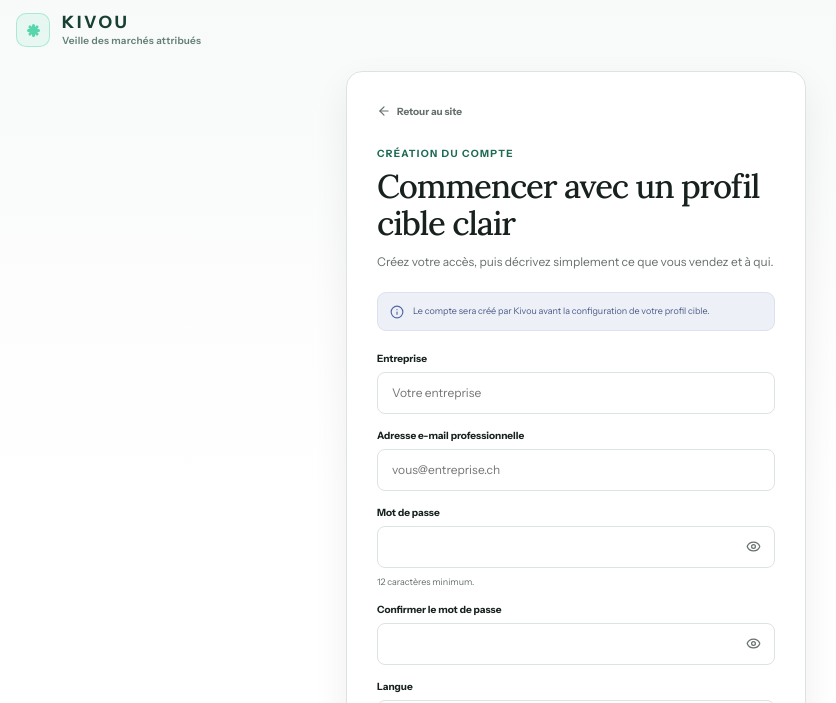
Scenario: inscription › refuse une adresse invalide sans appeler l’API
This screenshot has width=836, height=703.
In the field labelled "Entreprise": (576, 392) x1=377 y1=372 x2=775 y2=414, type "Acme"
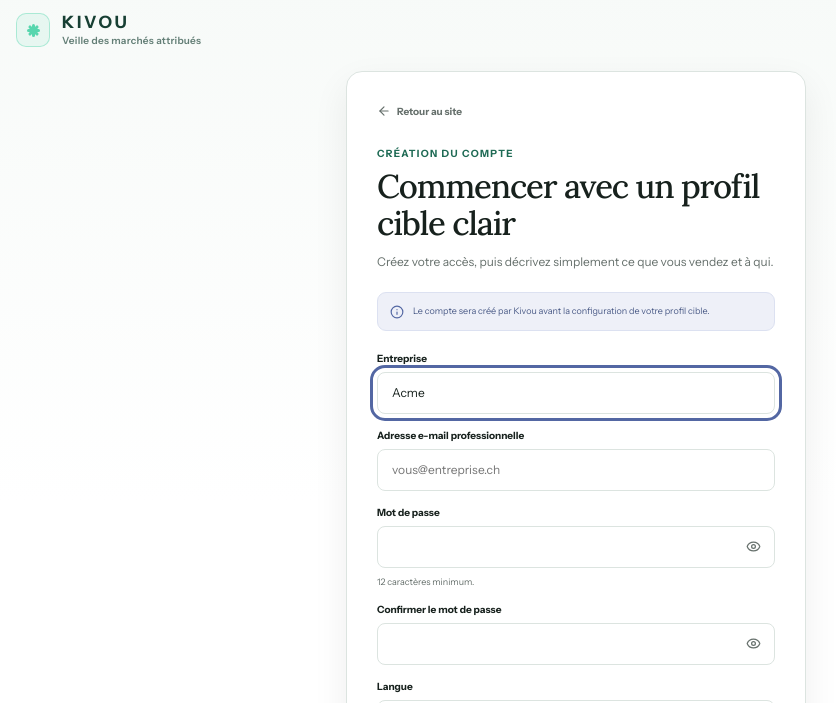
In the field labelled "Adresse e-mail professionnelle": (576, 470) x1=377 y1=448 x2=775 y2=490, type "adresse-invalide"
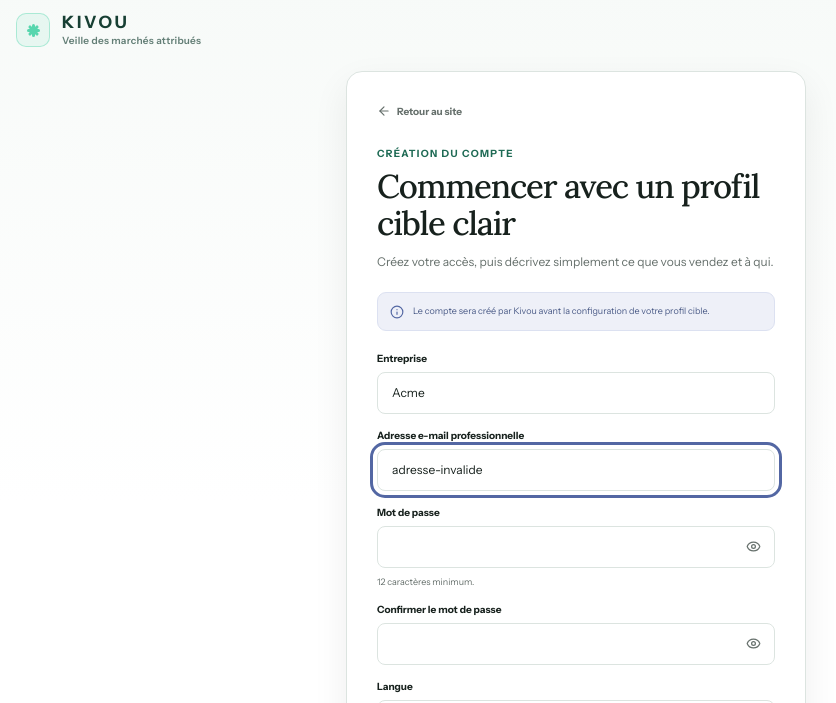
In the password field labelled "Mot de passe": (576, 546) x1=377 y1=526 x2=775 y2=568, type "motdepassesolide"
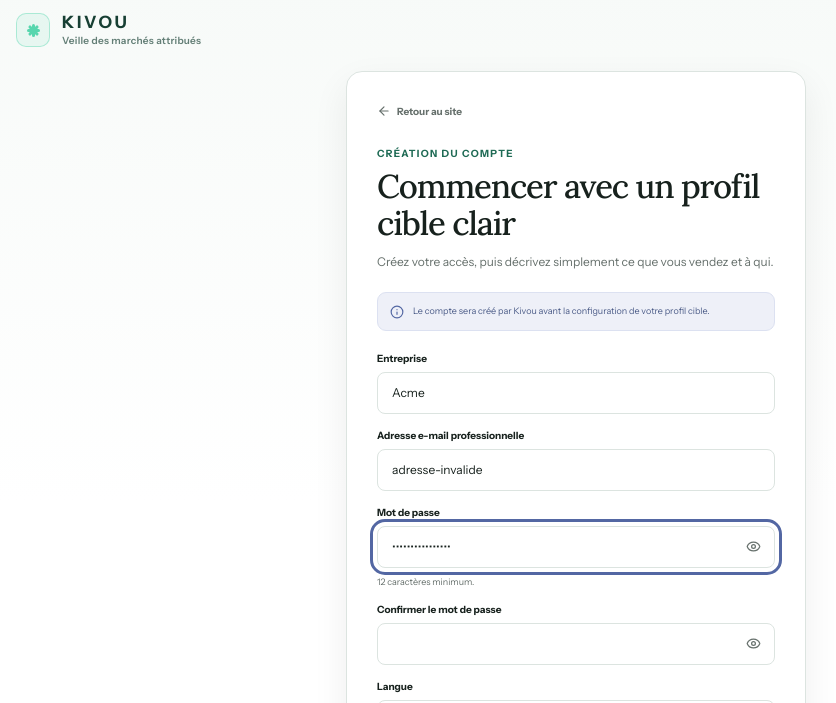
In the password field labelled "Confirmer le mot de passe": (576, 644) x1=377 y1=623 x2=775 y2=665, type "motdepassesolide"
(page scrolled)
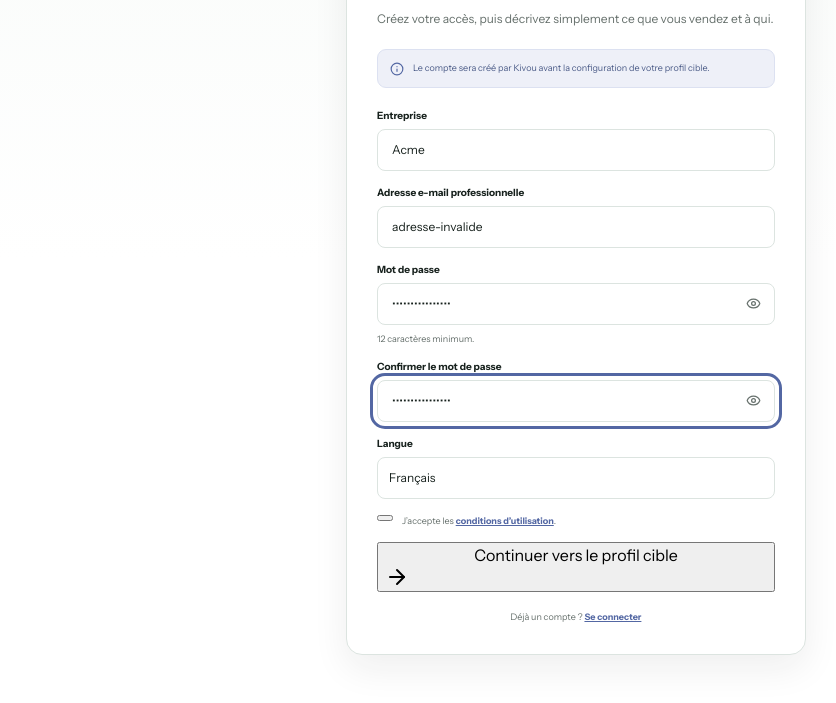
Click the checkbox: (385, 518) x1=377 y1=515 x2=393 y2=521
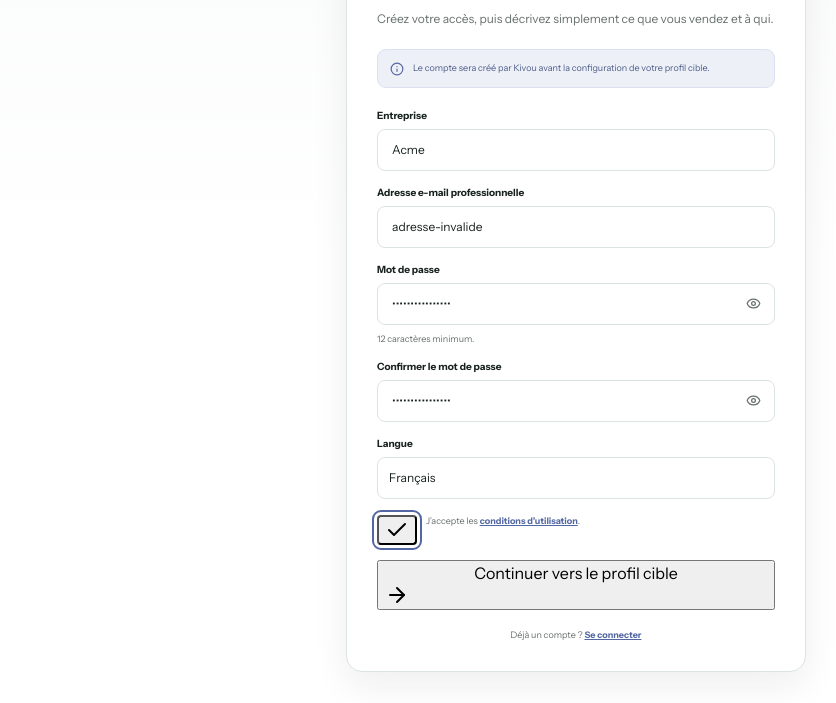
Click the button "Continuer vers le profil cible": (576, 585) x1=377 y1=560 x2=775 y2=610
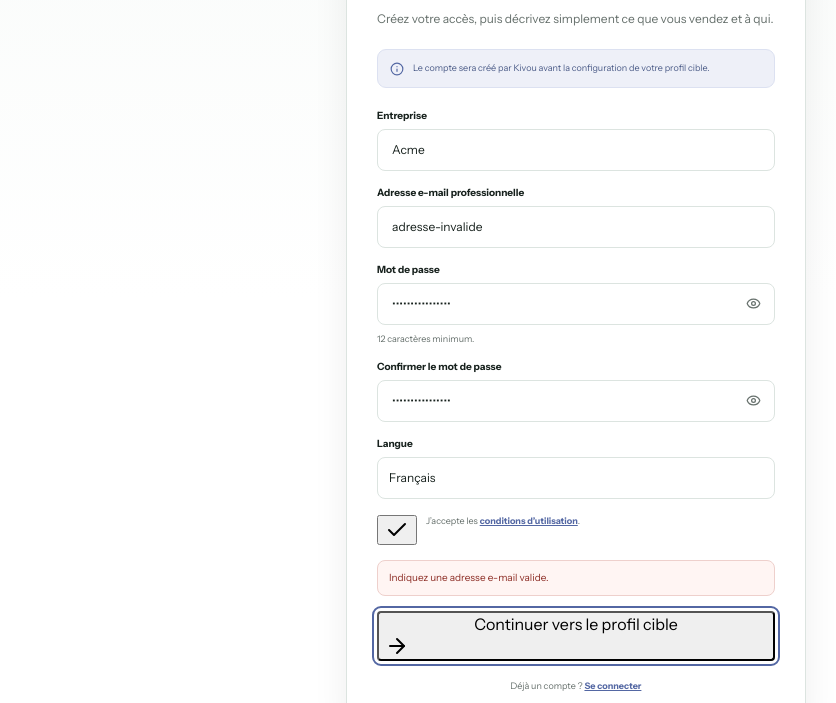
expect the message shows "adresse e-mail valide": met, box x1=389 y1=571 x2=548 y2=584
